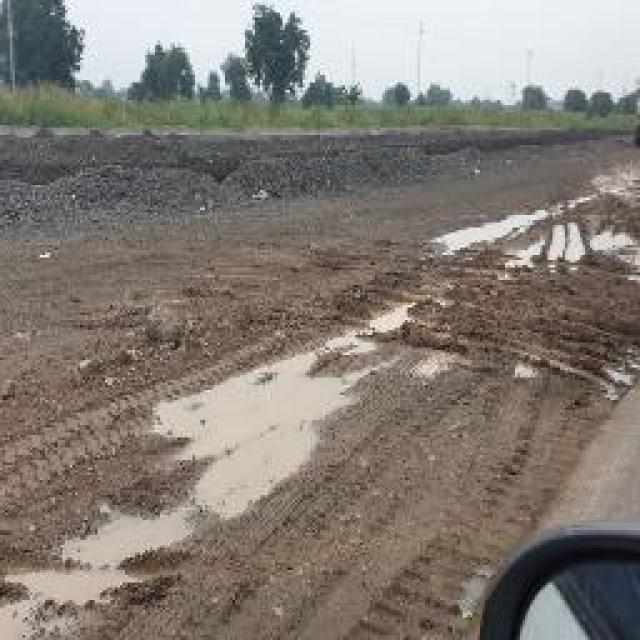stagnation: (151, 344, 362, 526), (449, 181, 613, 271)
